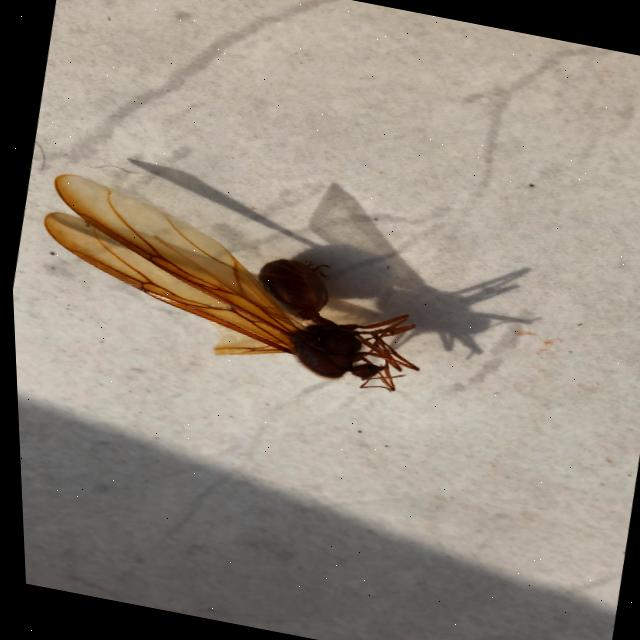Dead-Male-Alate: (19, 170, 442, 400)
